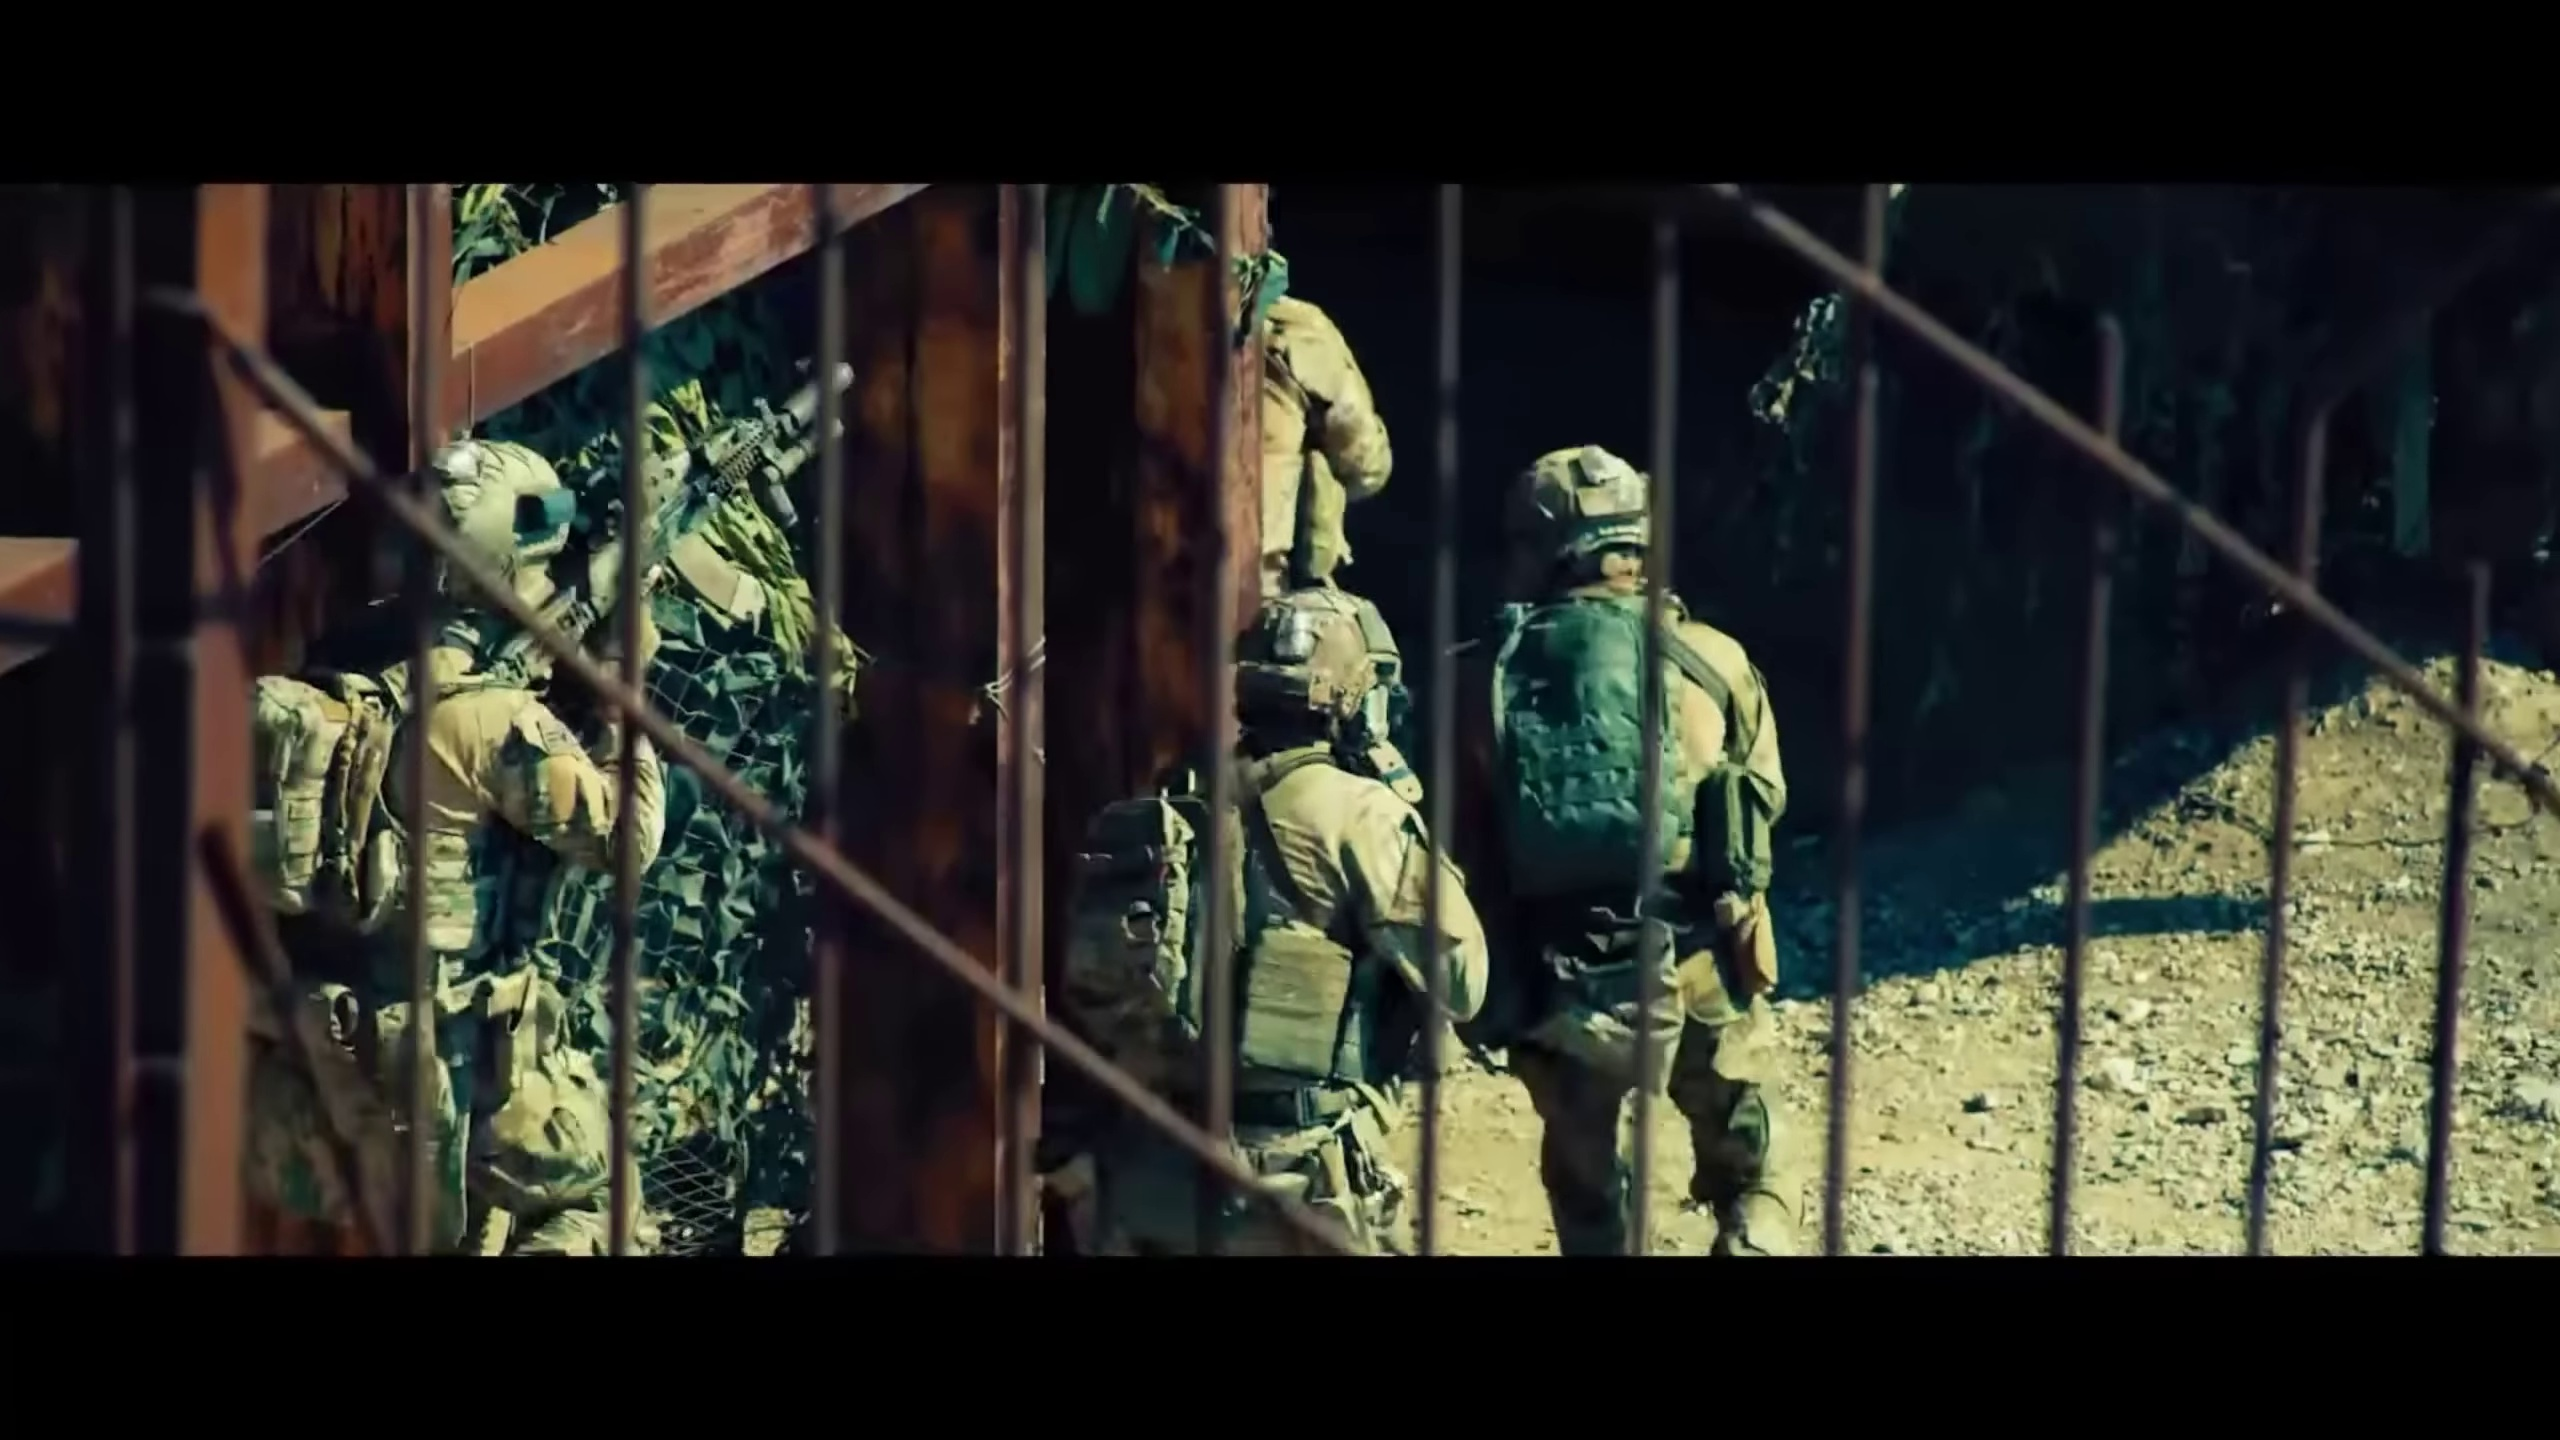gun: (462, 336, 856, 709)
p_w_gun: (222, 338, 856, 1257)
p_wo_gun_not_carrying_normal_pose: (1433, 436, 1799, 1254), (1058, 568, 1487, 1247)
